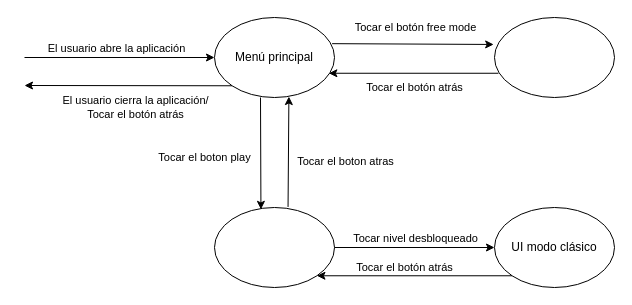
Image size: 632x305. Some labels were removed from this diagram. Here are the shapes that lost their labels. From the top down, the centre of each, then its label:
(554,57): UI modo libre
(274,247): Menú selección de nivel
